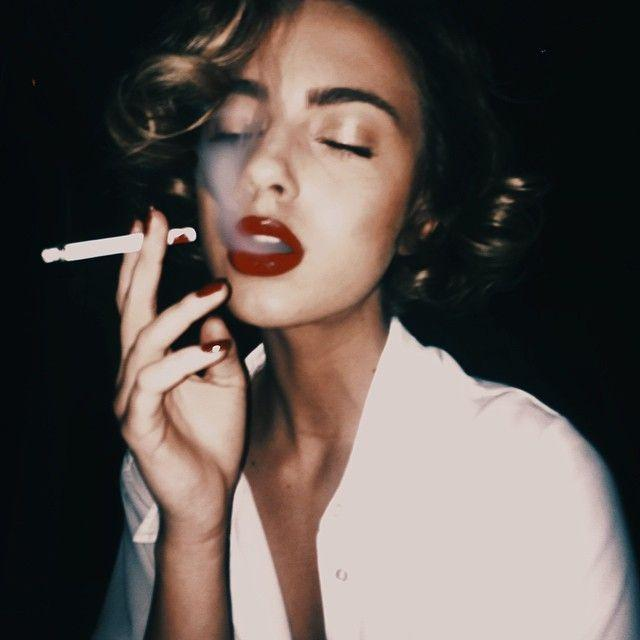cigarette: (20, 216, 199, 283)
